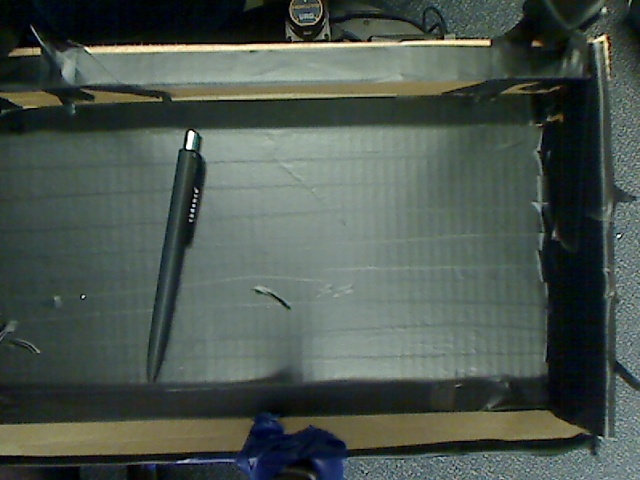pen: (132, 115, 214, 385)
